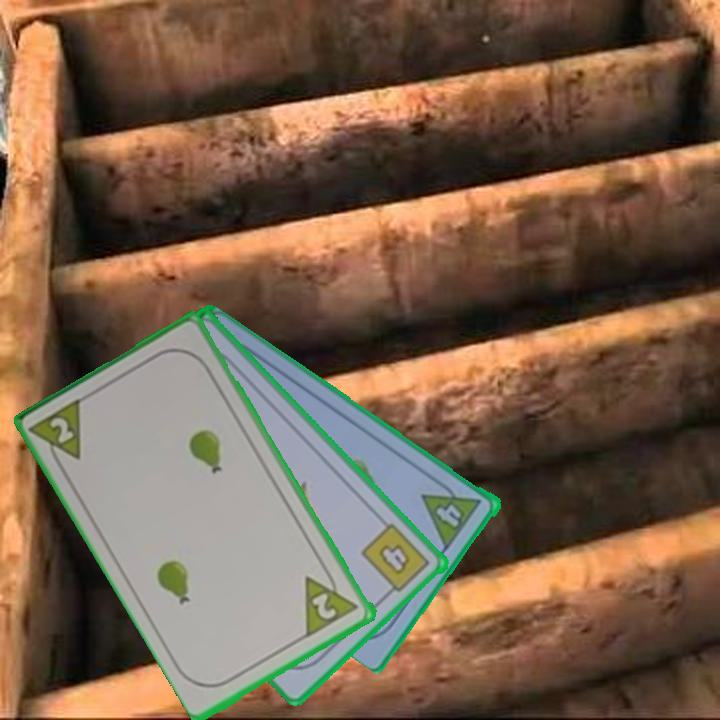2p: (28, 393, 85, 475), (309, 589, 340, 623)
4b: (358, 520, 434, 600)
4p: (418, 474, 485, 552)
